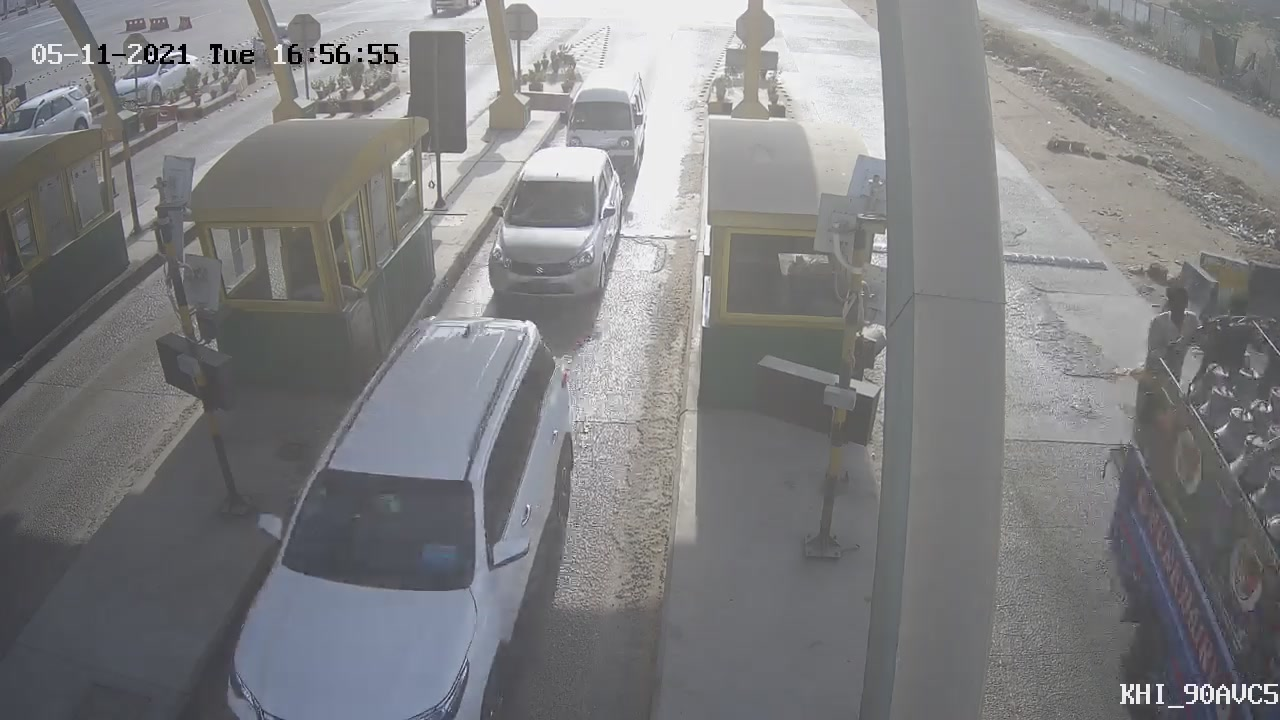F1: (469, 134, 646, 316), (540, 57, 668, 200)
